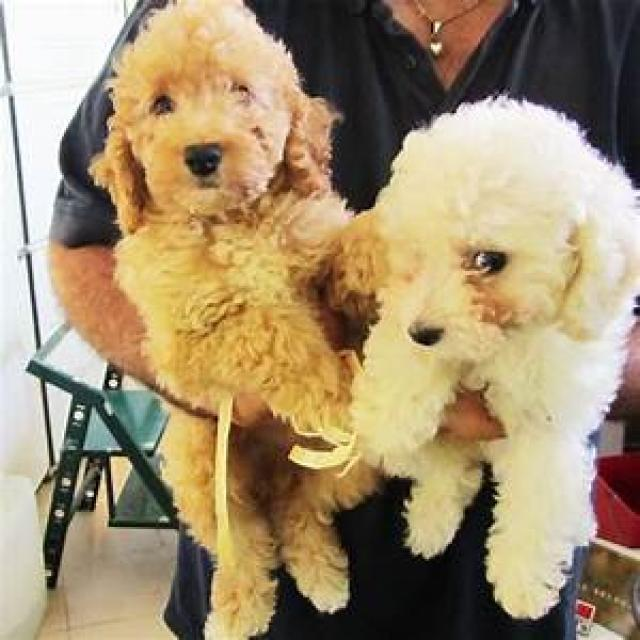dog: (92, 1, 640, 640), (334, 98, 640, 618)
